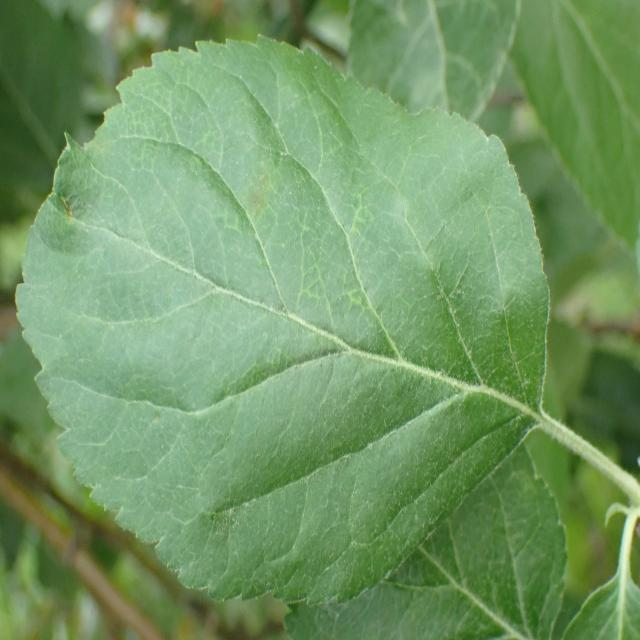scab: (70, 141, 499, 564)
